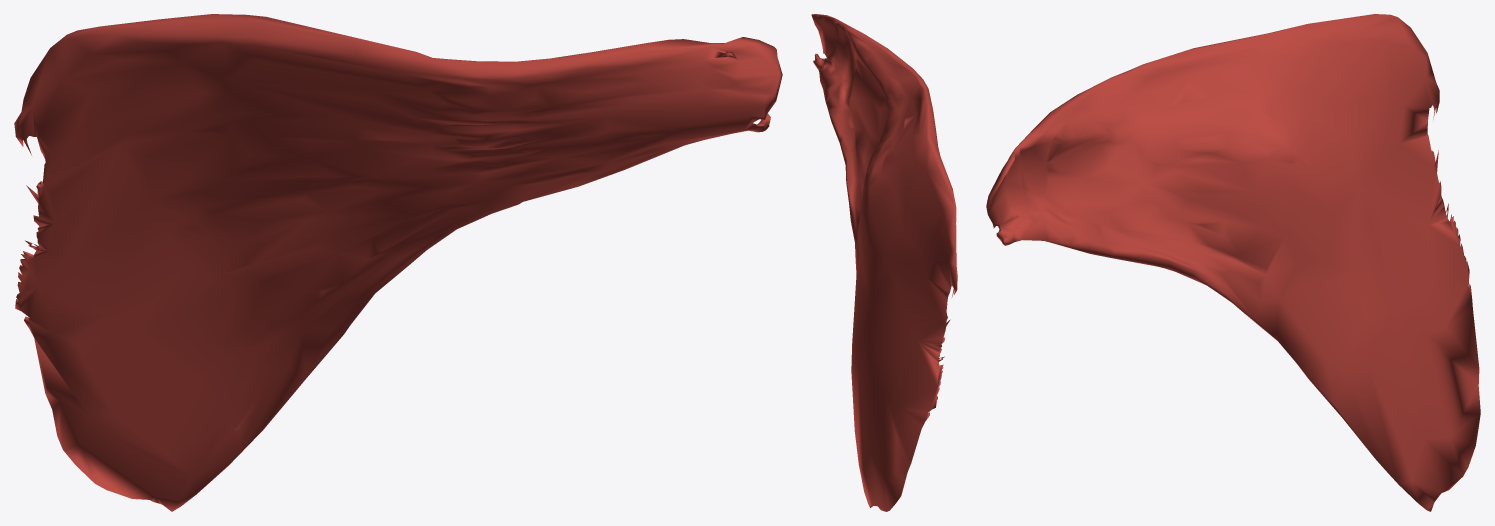
The model's file is musculos-subscapularis-muscle-l.glb.
3 renders of one model, left to right at view 1: azimuth 30°, elevation 25°; view 2: azimuth 150°, elevation 25°; view 3: azimuth 270°, elevation 25°, orthographic. The views are drawn at different scales.
Parts seen in each view (by area): view 1: Subscapularis muscle.l; view 2: Subscapularis muscle.l; view 3: Subscapularis muscle.l.
Part boxes in pixels (bbox=[...]): Subscapularis muscle.l: bbox=[14, 14, 782, 511]; Subscapularis muscle.l: bbox=[811, 14, 957, 511]; Subscapularis muscle.l: bbox=[986, 14, 1480, 511].
Size of the model in its own units: 0.105 by 0.1146 by 0.1049.
